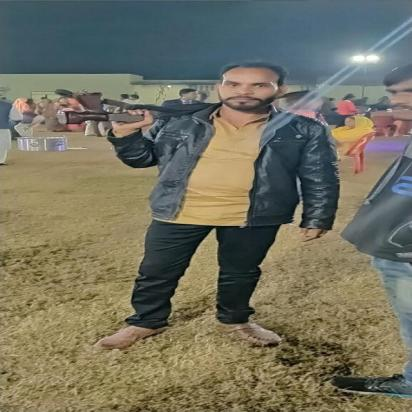Gun: (54, 87, 318, 125)
